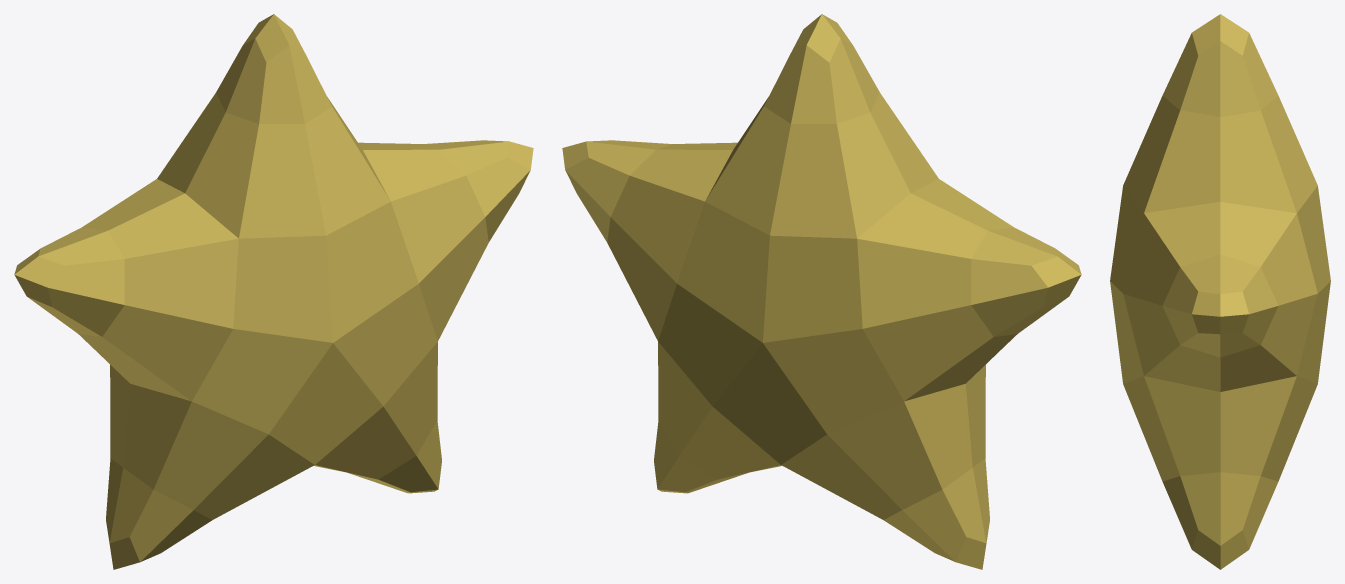
File: Star.glb
The picture shows the model from 3 angles, left to right: view 1: azimuth 30°, elevation 25°; view 2: azimuth 150°, elevation 25°; view 3: azimuth 270°, elevation 25°; orthographic projection. The views are drawn at different scales.
Visible parts, largest first — view 1: Star; view 2: Star; view 3: Star.
Part boxes in pixels (x1,y1,x2,y2): Star: (14,14,533,569); Star: (562,14,1081,569); Star: (1110,14,1330,569).
Size of the model in its own units: 0.3727 by 0.3545 by 0.147.
